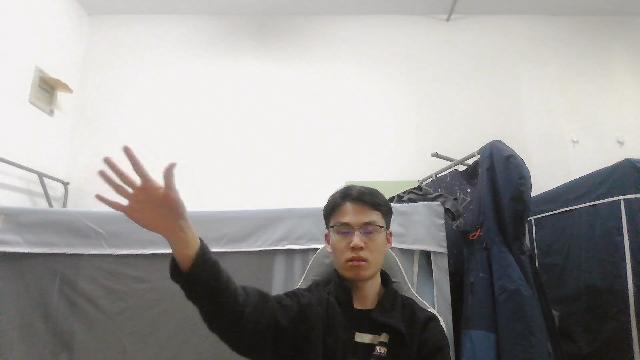five: (93, 142, 194, 239)
